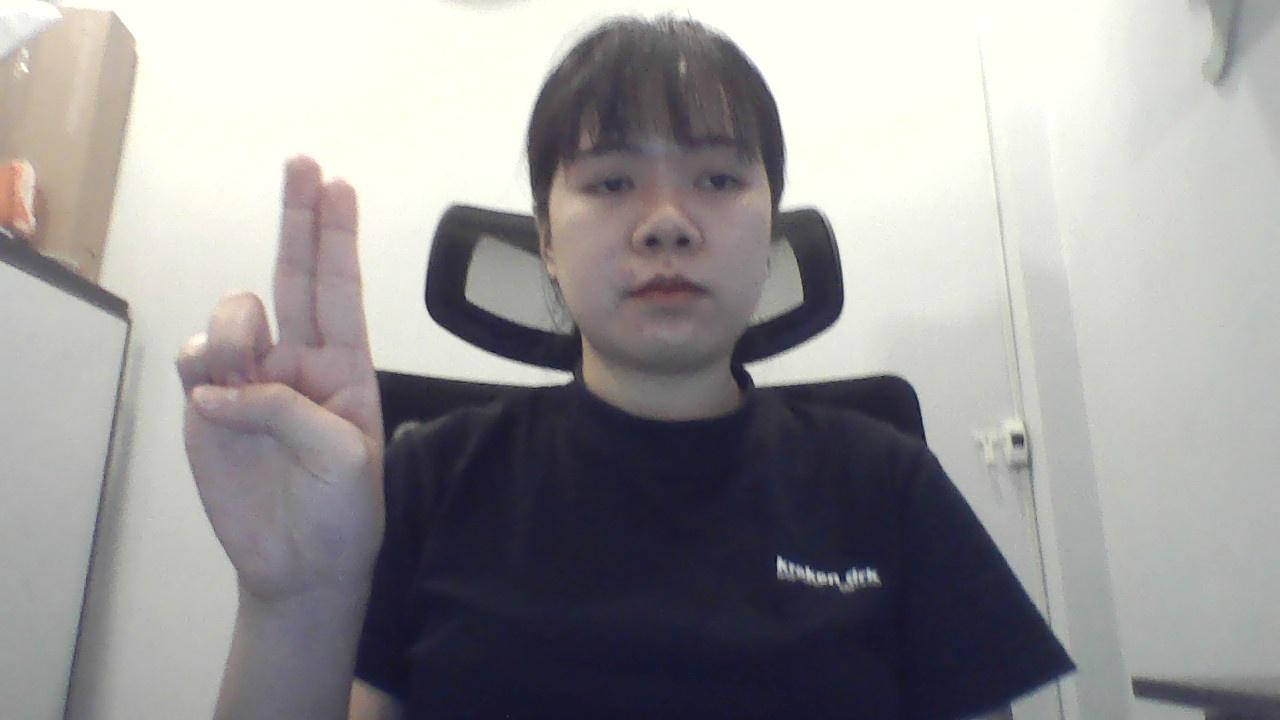U: (144, 152, 401, 627)
